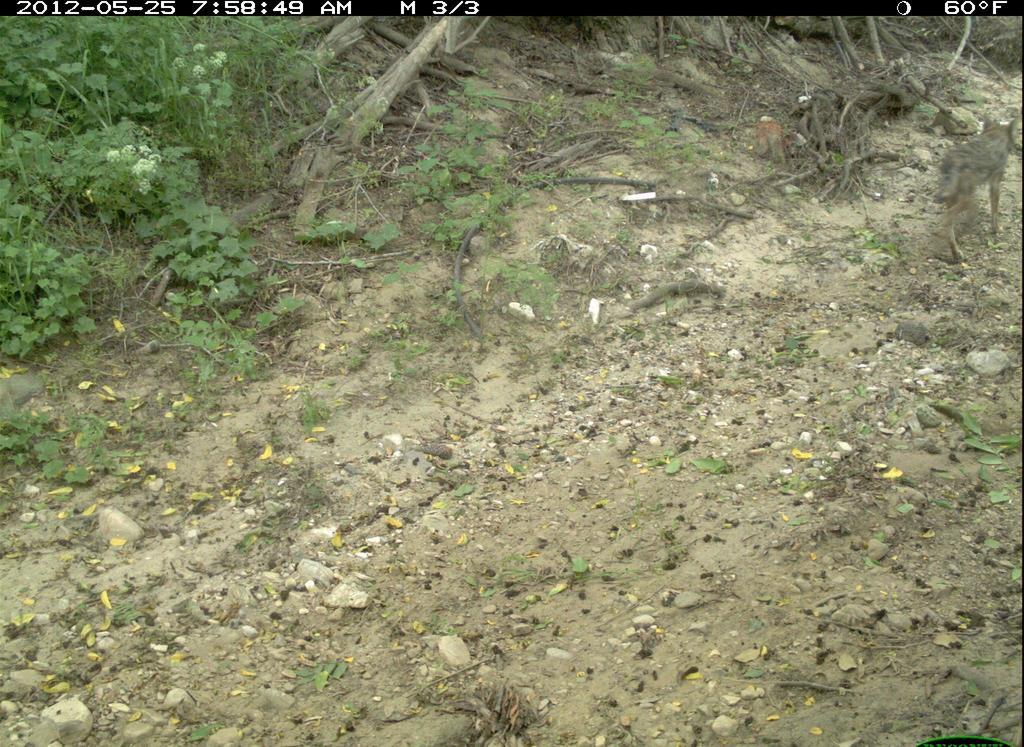coyote: (927, 108, 1022, 271)
